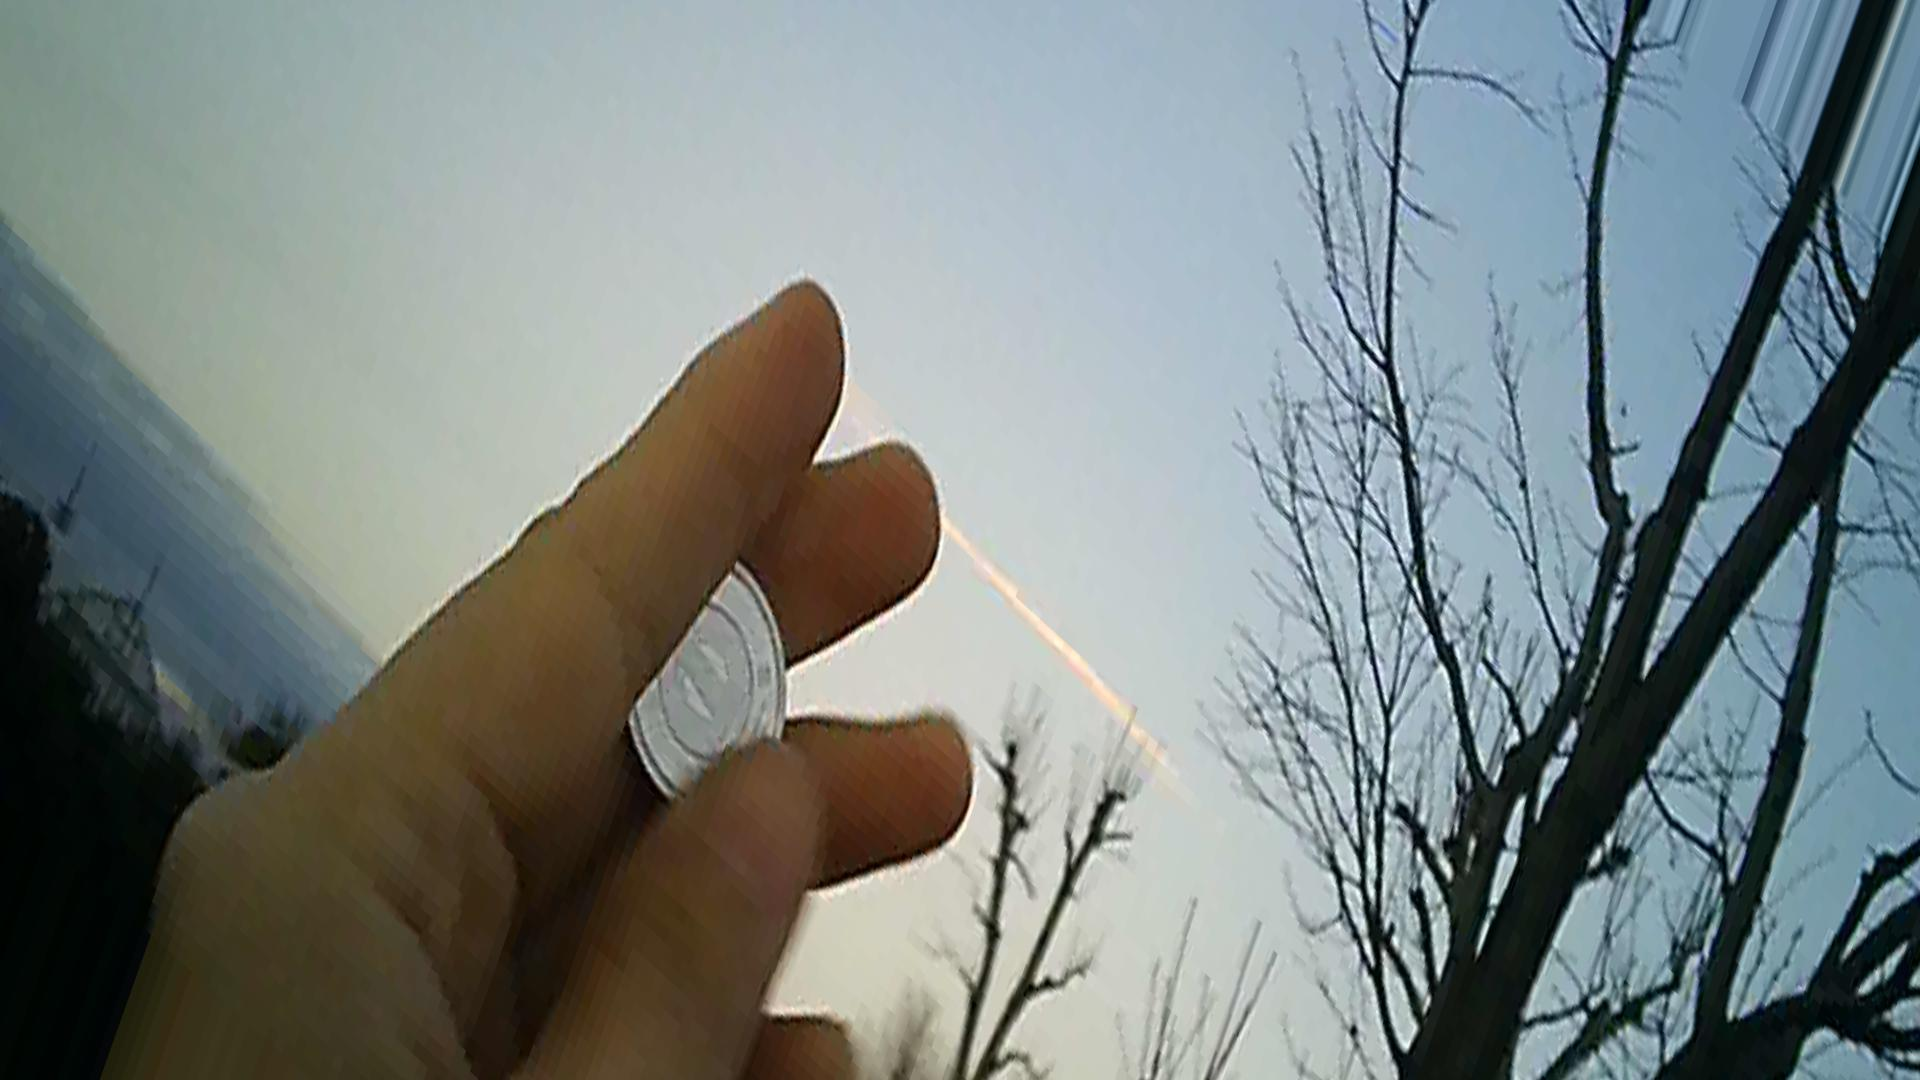1 Yen: (611, 538, 799, 806)
